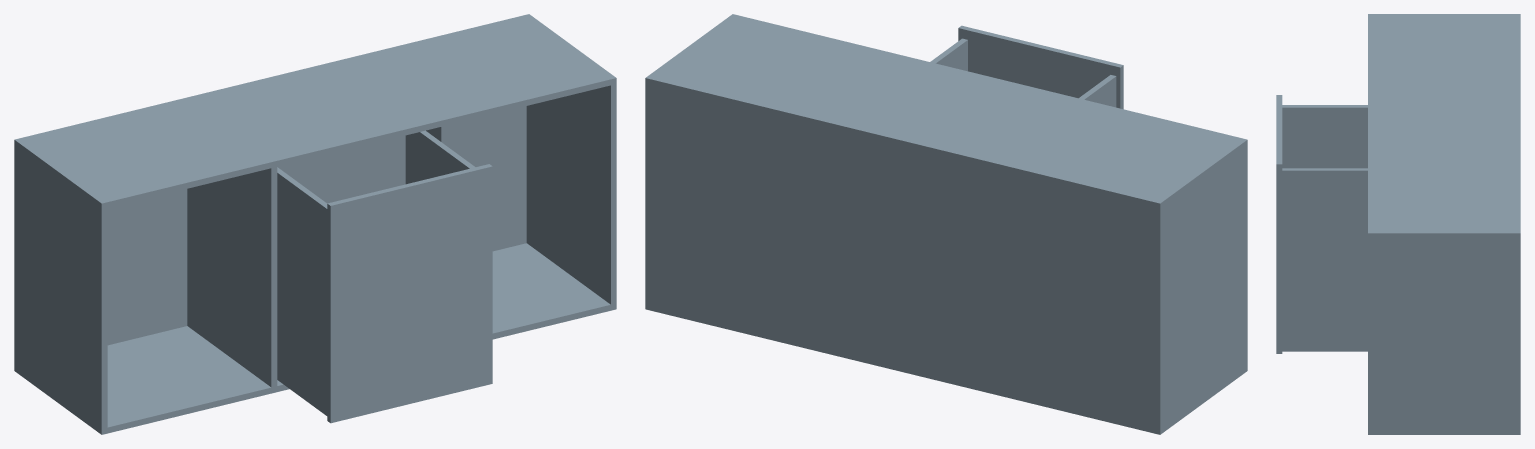
Rendered from meuble_690f7be298325.glb.
The picture shows the model from 3 angles, left to right: view 1: azimuth 30°, elevation 25°; view 2: azimuth 150°, elevation 25°; view 3: azimuth 270°, elevation 25°; orthographic projection. The views are drawn at different scales.
Parts seen in each view (by area): view 1: world; view 2: world; view 3: world.
Part boxes in pixels (left/top/right/bottom): world: left=14, top=14, right=616, bottom=434; world: left=645, top=14, right=1247, bottom=434; world: left=1276, top=14, right=1520, bottom=434.
Bounding box in the file's own units: 1.7 × 0.73 × 0.8.
